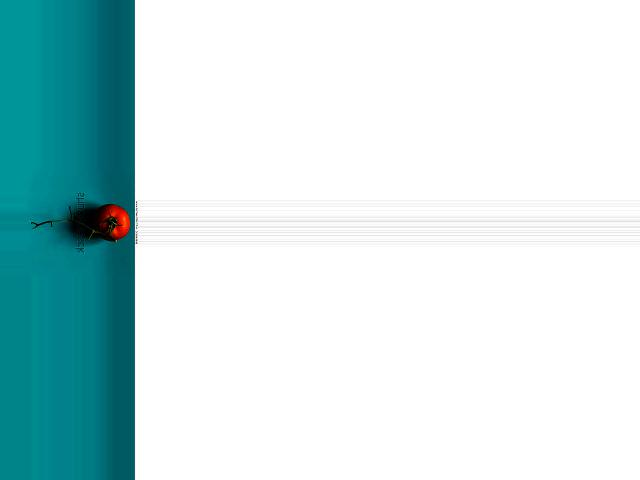tomato: (93, 204, 129, 242)
